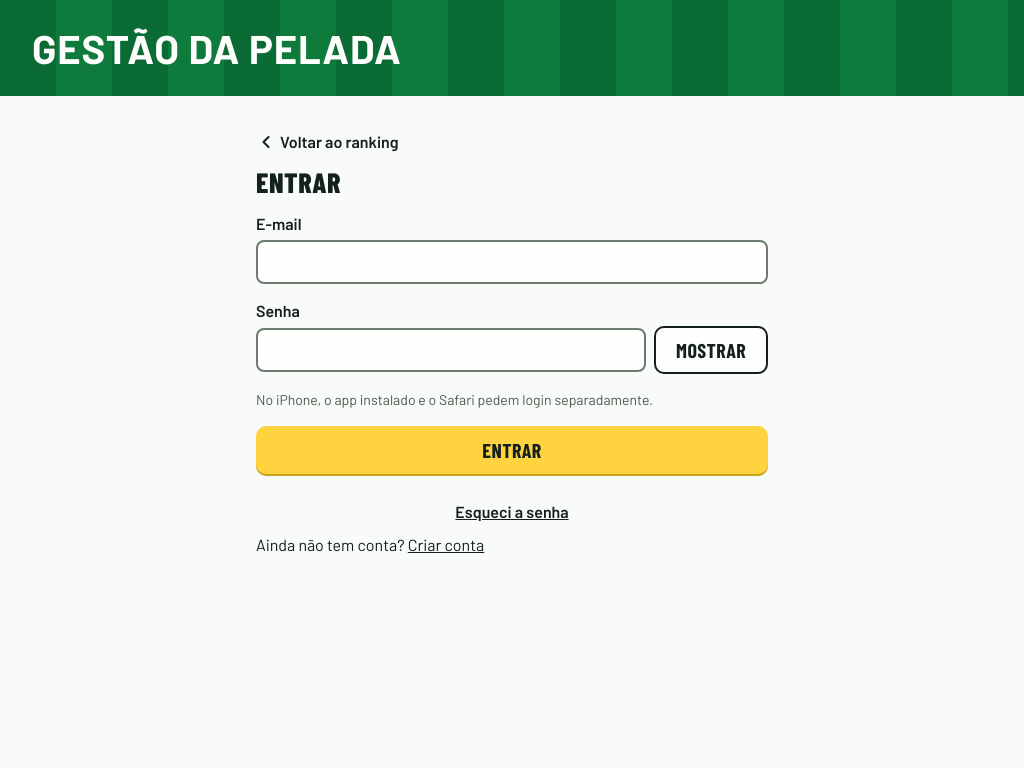
Test: Entrar: envio › falha de conexão mostra o erro de envio e mantém o e-mail
Type "ana@exemplo.com.br" into the field labelled "E-mail" at (512, 262), box x1=256 y1=240 x2=768 y2=284
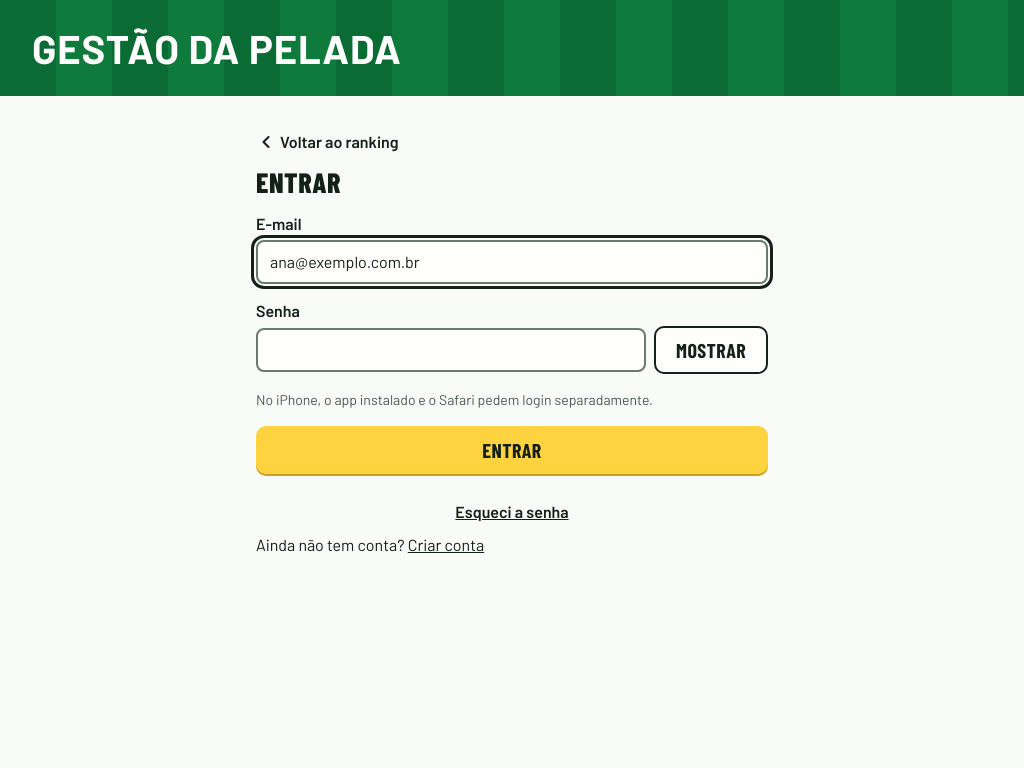
Type "senha-boa-123" into the password field labelled "Senha" at (451, 350), box x1=256 y1=328 x2=646 y2=372
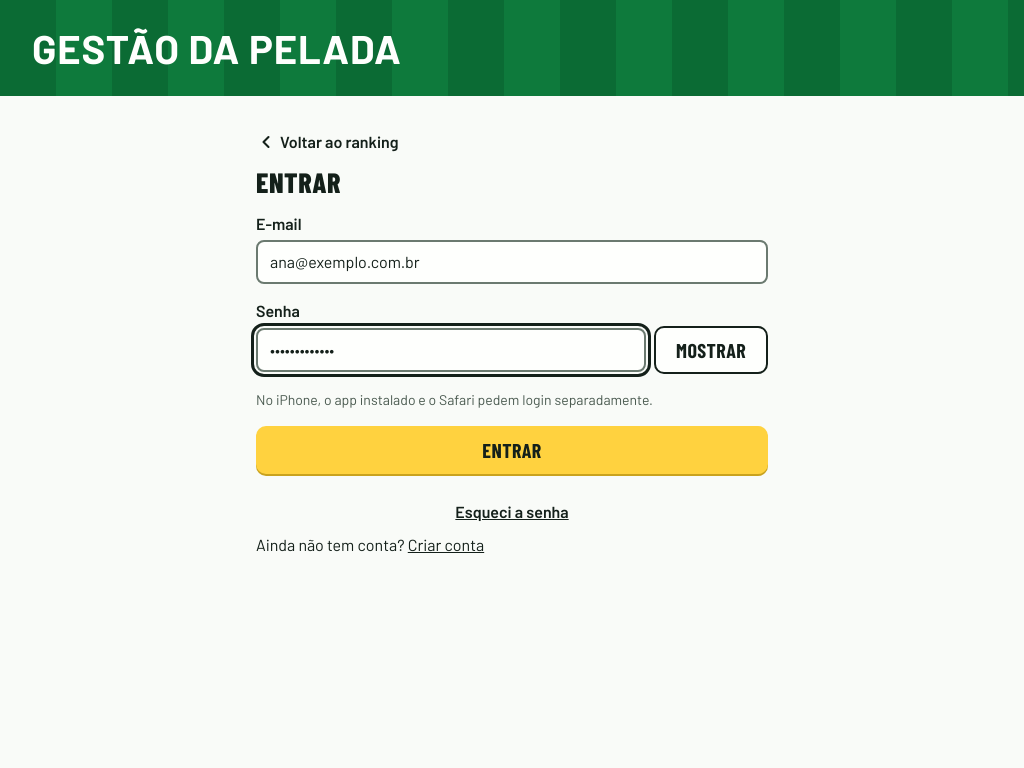
Click the button "Entrar" at (512, 450), box x1=256 y1=426 x2=768 y2=474
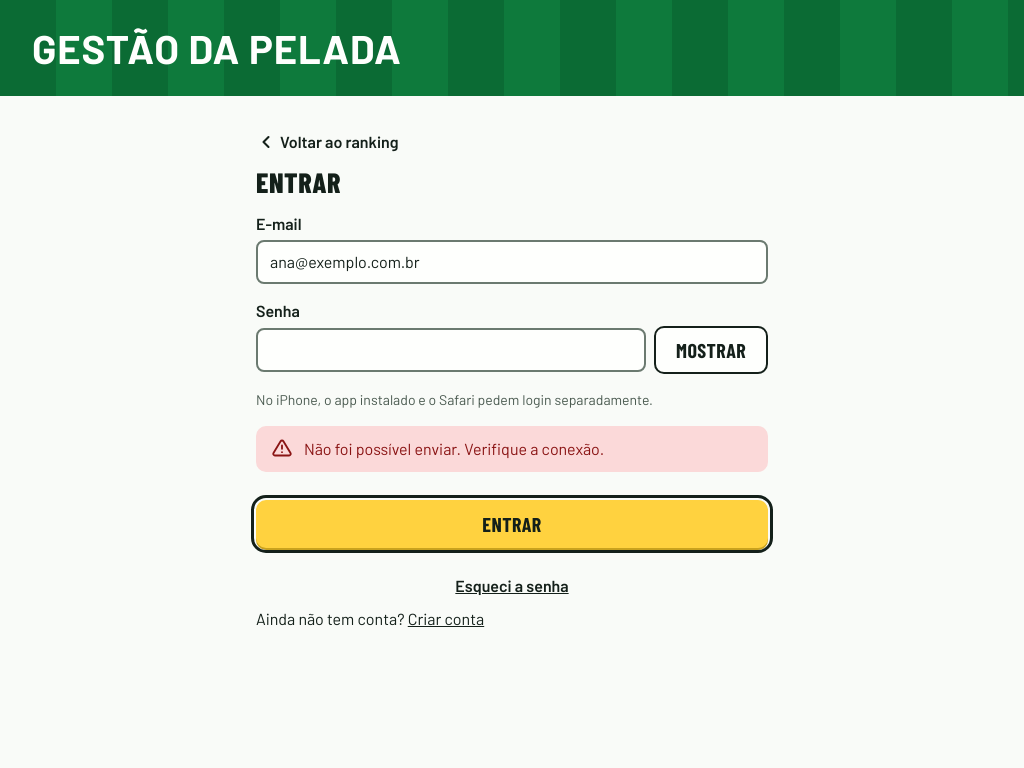
expect the message reads "Não foi possível enviar. Verifique a conexão.": met, box x1=304 y1=439 x2=604 y2=458
